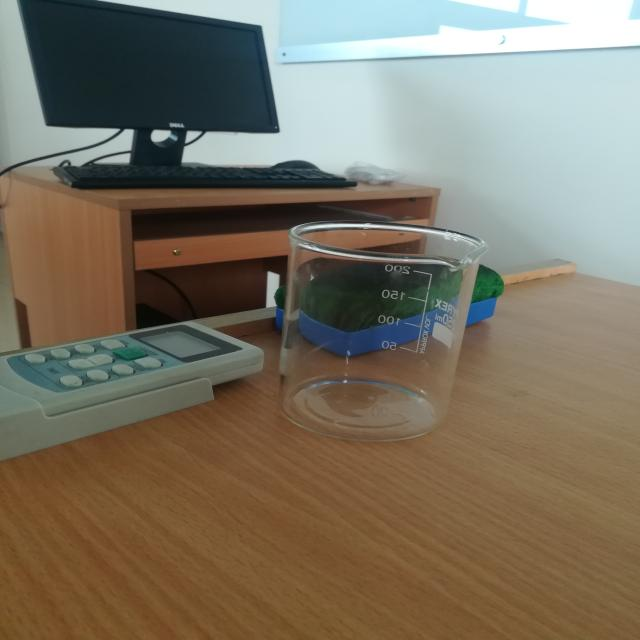Beaker: (252, 186, 497, 463)
